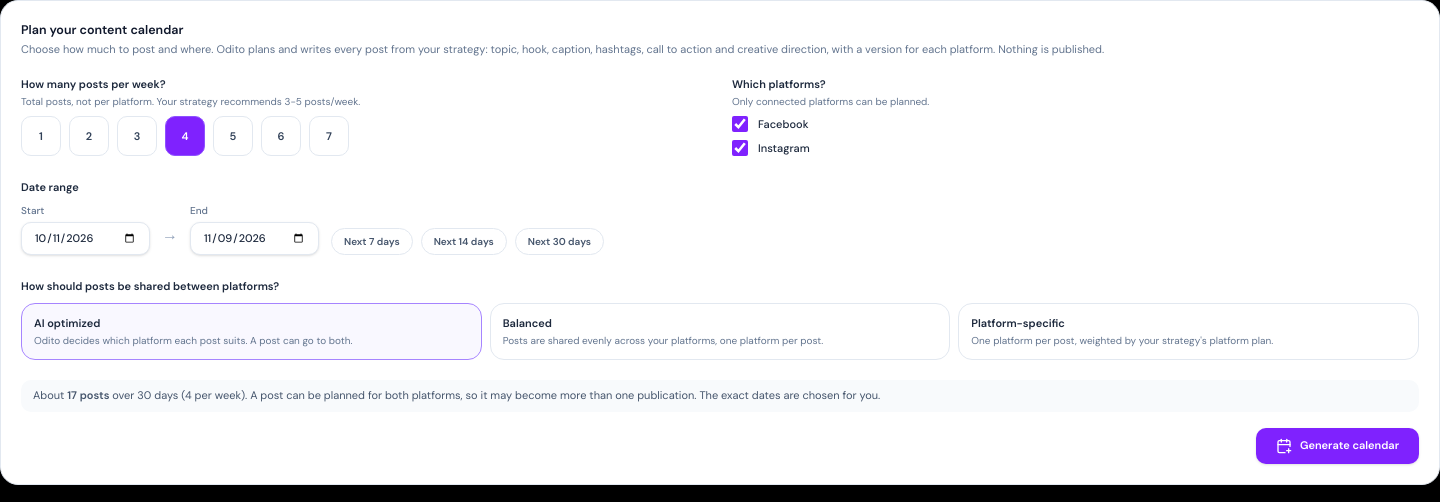
Test: Content plan — the planning form › shows the distribution modes only when two platforms are selected
Expected: the radio button labelled "AI optimized" is checked, [21,303,482,360]
Step 1. Click the checkbox labelled "Instagram" → [740, 148], box [732,140,748,156]
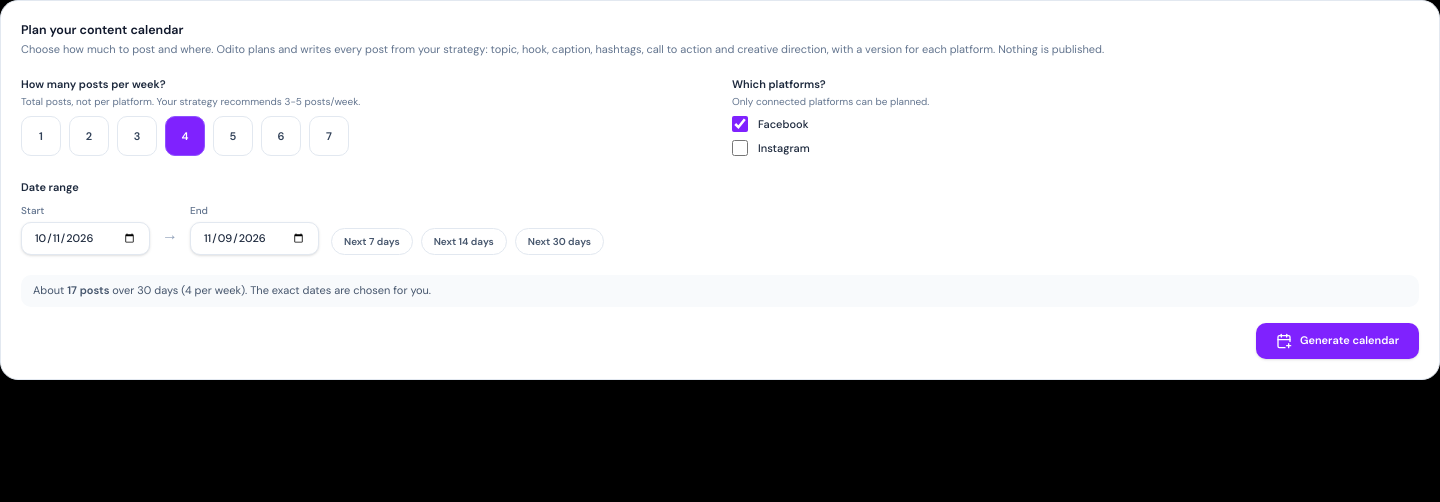
Expected: the element with test id "distribution" is gone
